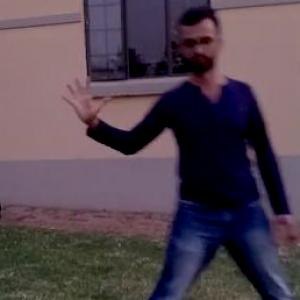follow_hand: (58, 70, 112, 123)
